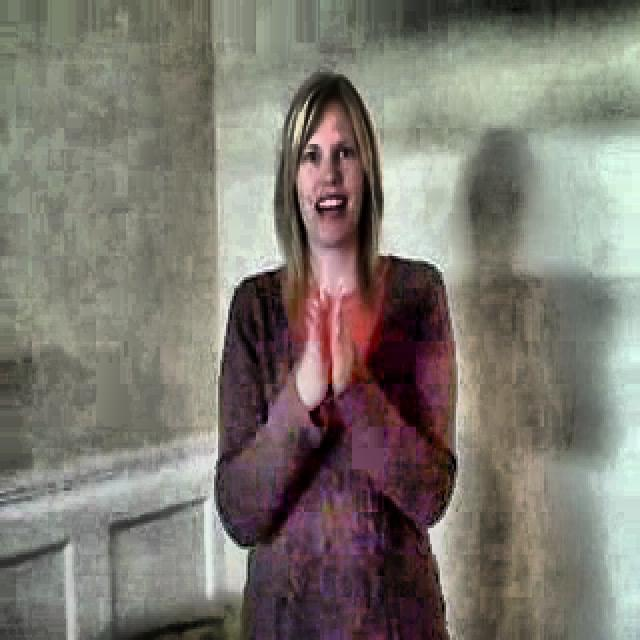F: (204, 66, 464, 640)
